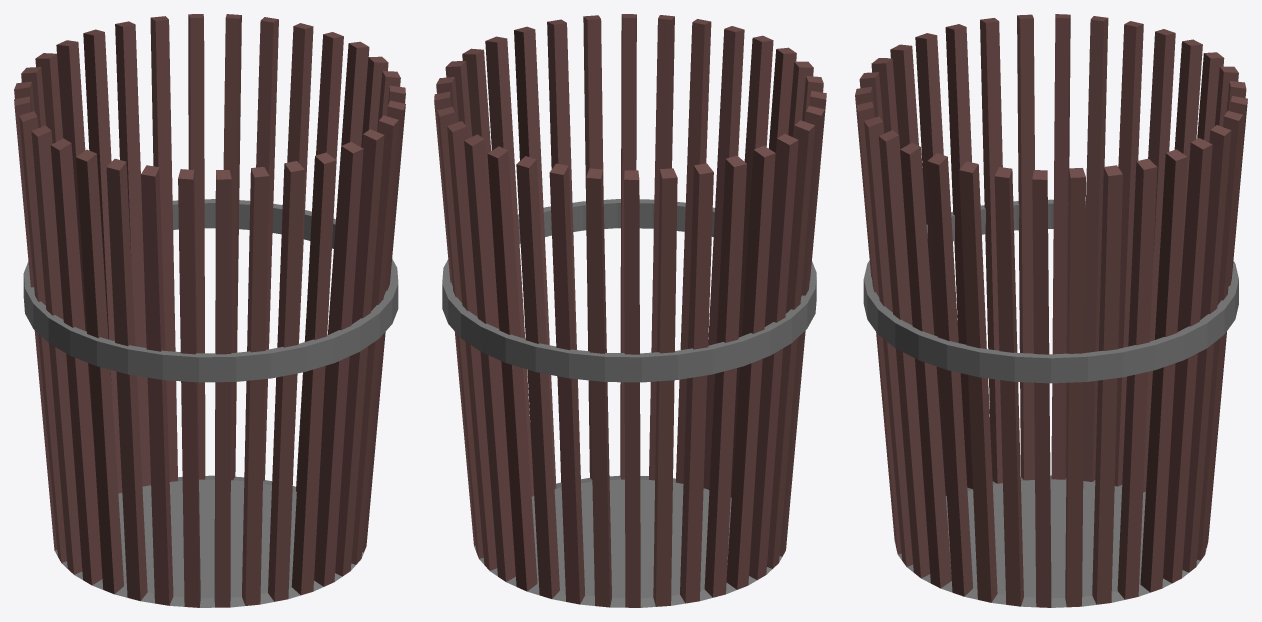
The model's file is trashCan.fbx.
3 views of the same model, side by side, from view 1: azimuth 30°, elevation 25°; view 2: azimuth 150°, elevation 25°; view 3: azimuth 270°, elevation 25° (orthographic).
Parts seen in each view (by area): view 1: Cylinder, Cylinder.001; view 2: Cylinder, Cylinder.001; view 3: Cylinder, Cylinder.001.
Boxes of the visible parts, bbox=[...] form: Cylinder: bbox=[14, 14, 405, 607]; Cylinder.001: bbox=[23, 199, 398, 382]; Cylinder: bbox=[434, 14, 826, 607]; Cylinder.001: bbox=[442, 199, 816, 382]; Cylinder: bbox=[855, 14, 1247, 607]; Cylinder.001: bbox=[863, 199, 1238, 383].
Size of the model in its own units: 76.21 by 96.13 by 76.21.
